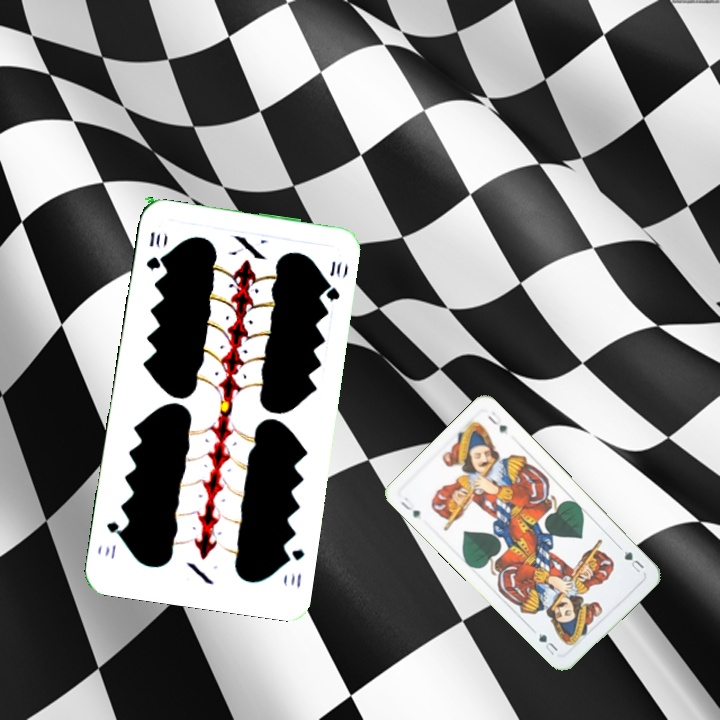G10: (280, 545, 307, 591), (142, 226, 167, 272)
GU: (620, 547, 647, 575), (397, 493, 423, 521)
